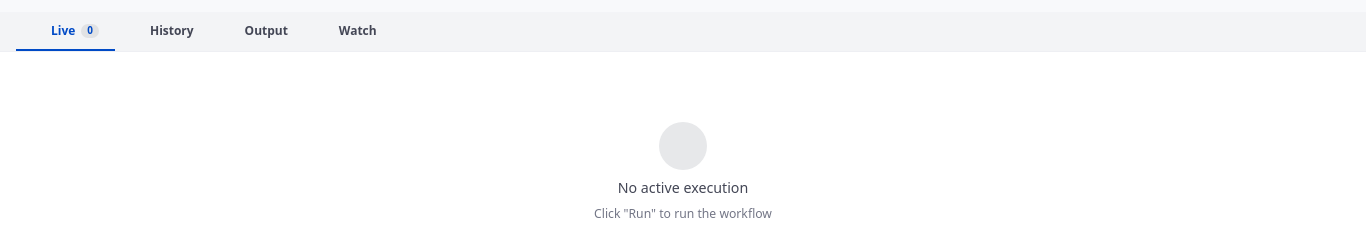
Test: ExecutionPanel › historyTab_triageColumns_renderUserStepsFailedStepAndParentBadge
Click the button "History": (162, 32) [115,13,210,51]
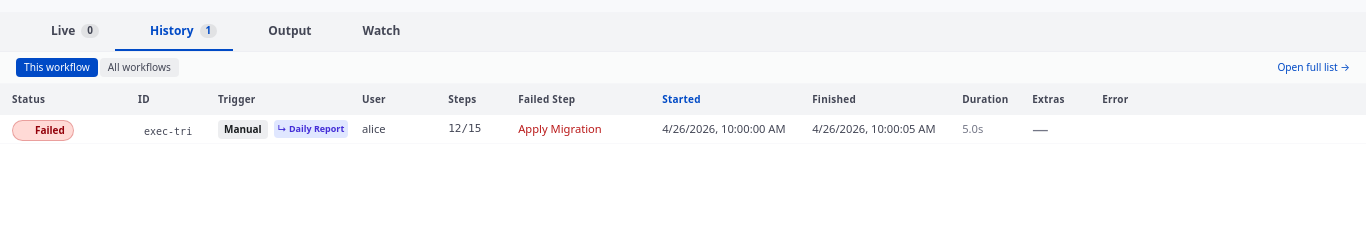
Result: the button "exec-tri" is shown at [138,122,198,141]
Result: the text "alice" is shown at [362,121,386,136]
Result: the text "12/15" is shown at [448,122,481,135]
